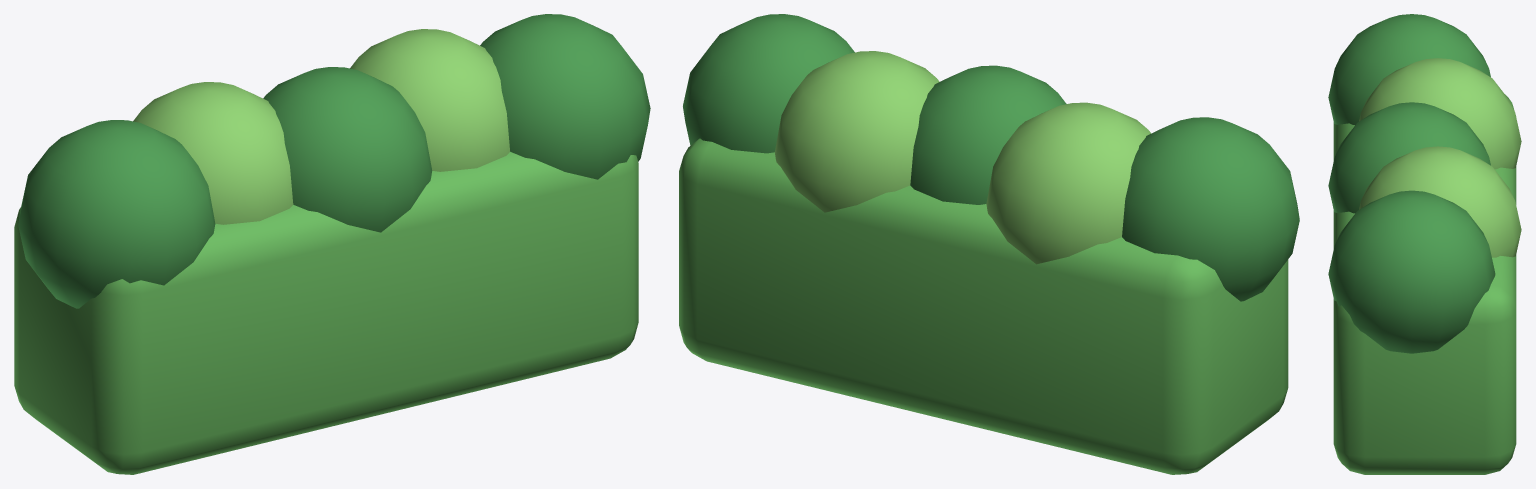
Rendered from hedge.glb.
3 views of the same model, side by side, from view 1: azimuth 30°, elevation 25°; view 2: azimuth 150°, elevation 25°; view 3: azimuth 270°, elevation 25° (orthographic). The views are drawn at different scales.
Visible parts, largest first — view 1: hedge; view 2: hedge; view 3: hedge.
Boxes of the visible parts, bbox=[...] form: hedge: bbox=[14, 14, 650, 474]; hedge: bbox=[679, 14, 1299, 474]; hedge: bbox=[1328, 14, 1521, 474].
Bounding box in the file's own units: 2.24 × 1.12 × 0.74.
